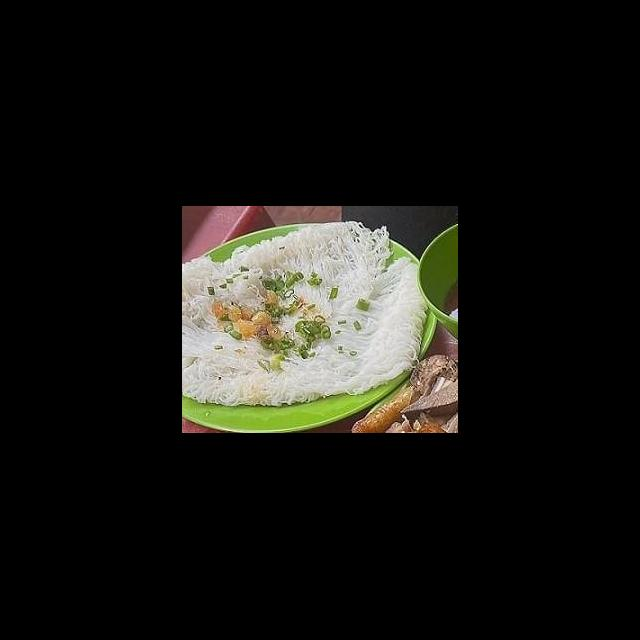banh hoi: (183, 252, 431, 410), (206, 220, 396, 326), (183, 253, 334, 374)
gan: (399, 378, 458, 422)
